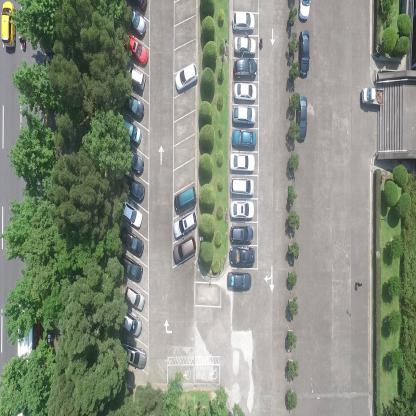car: (122, 33, 150, 66), (0, 0, 16, 52), (118, 226, 144, 257), (120, 338, 146, 369), (119, 198, 143, 230), (173, 234, 197, 265), (172, 209, 197, 238), (174, 62, 198, 92), (173, 185, 197, 213), (118, 254, 142, 281), (122, 175, 145, 203), (120, 118, 142, 147), (124, 64, 146, 92), (298, 29, 310, 80), (126, 8, 147, 37), (123, 92, 144, 121), (229, 245, 255, 268), (124, 284, 145, 312), (295, 94, 307, 142), (226, 271, 252, 293), (232, 104, 256, 127), (233, 58, 258, 80), (230, 197, 255, 219), (230, 175, 256, 196), (122, 310, 142, 337), (231, 10, 255, 32), (233, 81, 258, 102), (126, 146, 144, 175), (230, 152, 256, 172), (230, 129, 257, 148), (234, 34, 256, 56), (228, 225, 254, 243), (362, 86, 384, 107), (298, 0, 312, 22), (123, 0, 147, 12)
